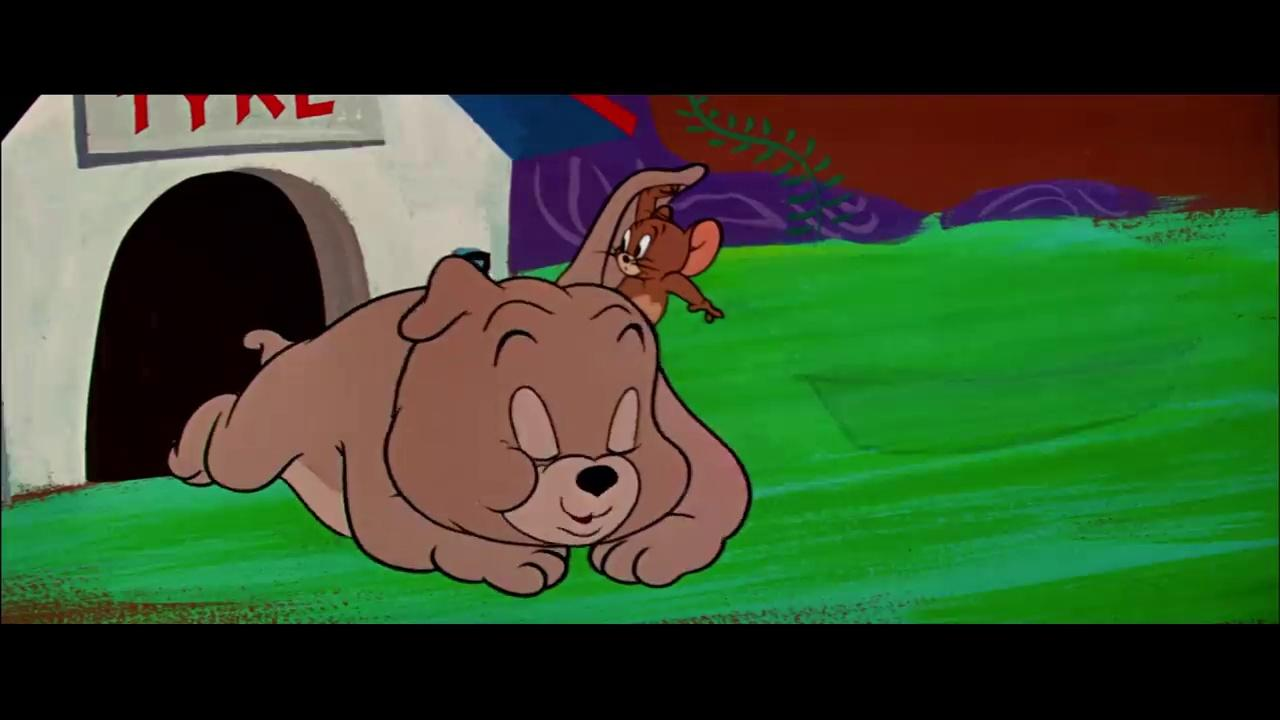Jerry: (595, 182, 727, 327)
